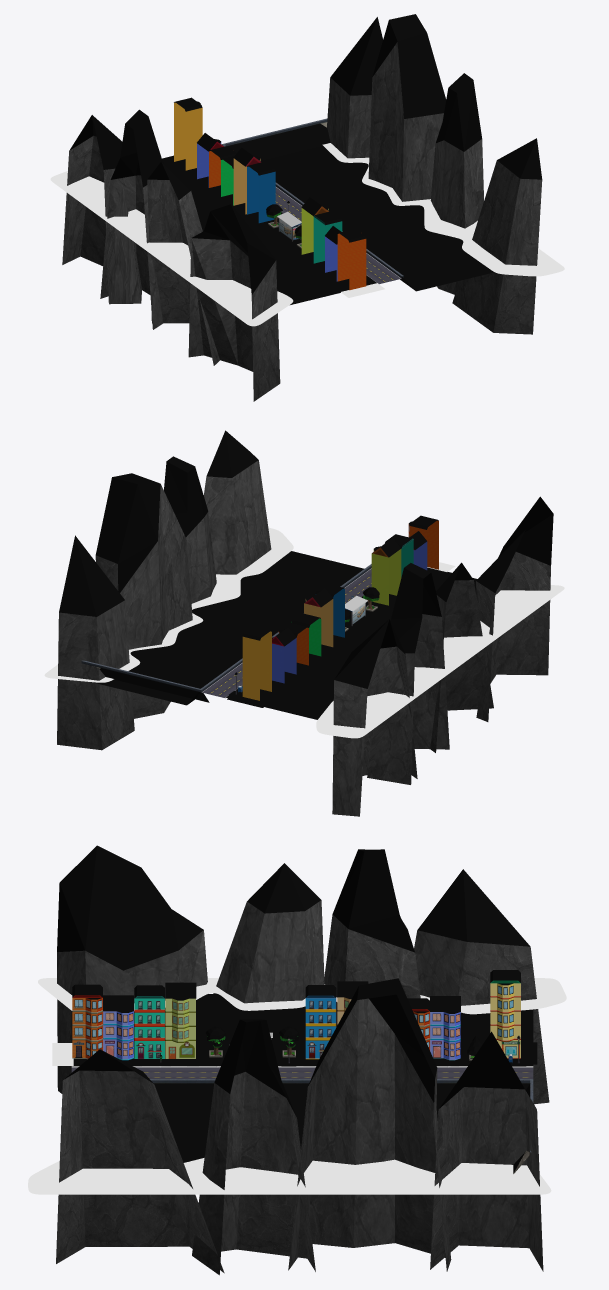
Rendered from citywinter_10.fbx.
3 views of the same model, one above another, from view 1: azimuth 30°, elevation 25°; view 2: azimuth 150°, elevation 25°; view 3: azimuth 270°, elevation 25° (orthographic). The views are drawn at different scales.
Visible parts, largest first — view 1: City_10; view 2: City_10; view 3: City_10.
Part boxes in pixels (x1,y1,x2,y2): City_10: (50,14,564,401); City_10: (44,430,564,816); City_10: (28,845,566,1275).
Bounding box in the file's own units: 22617 × 13384 × 25170.
